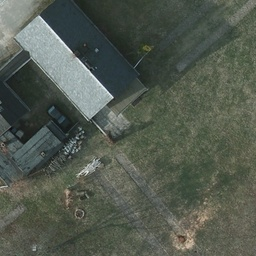car: (47, 104, 72, 130)
